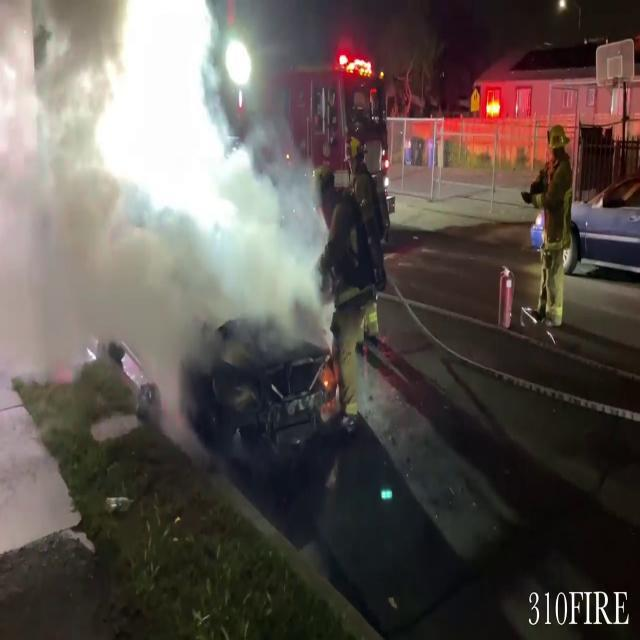Smoke: (1, 1, 336, 423)
